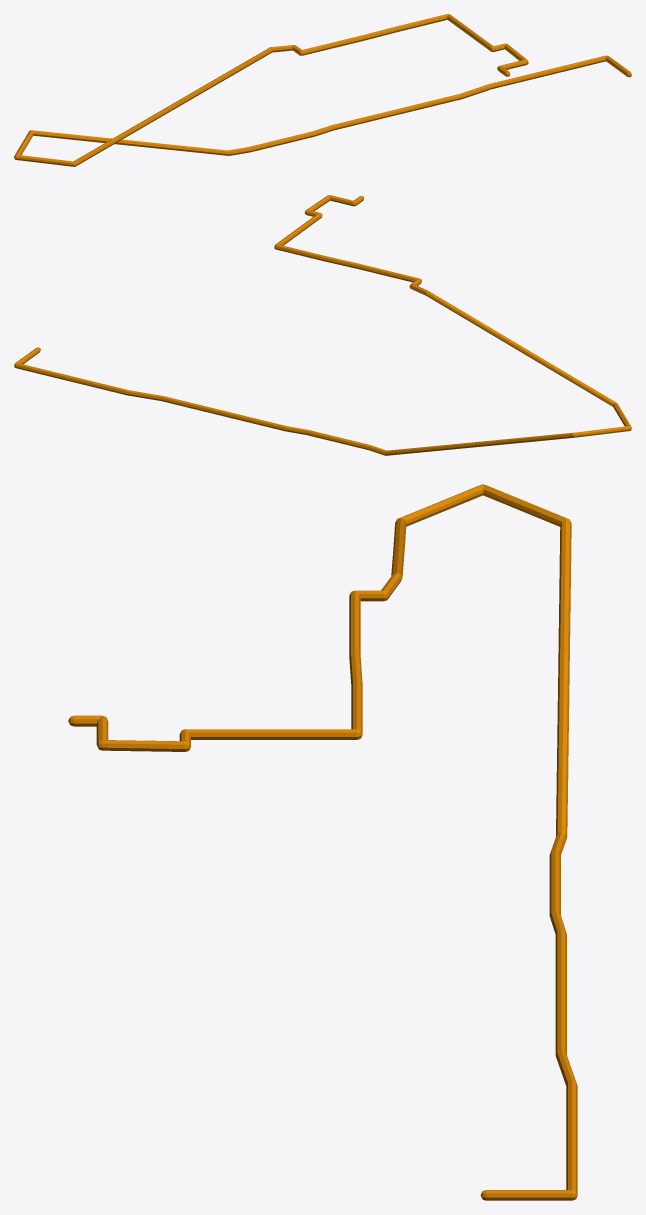
3 views of the same model, one above another, from view 1: azimuth 30°, elevation 25°; view 2: azimuth 150°, elevation 25°; view 3: azimuth 270°, elevation 25° (orthographic). The views are drawn at different scales.
Size of the model in its own units: 2402 by 520 by 891.
